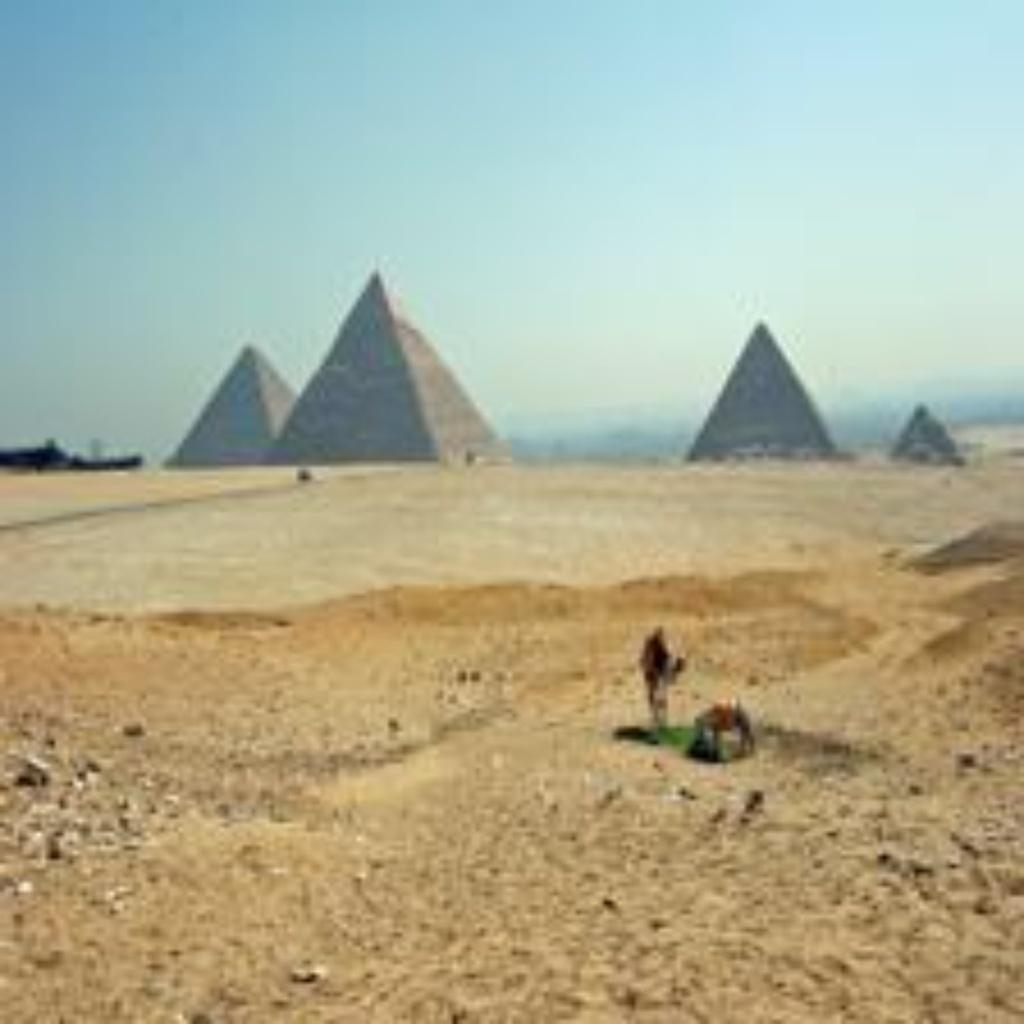Great Pyramids of Giza: (165, 259, 504, 473), (681, 316, 841, 462)
